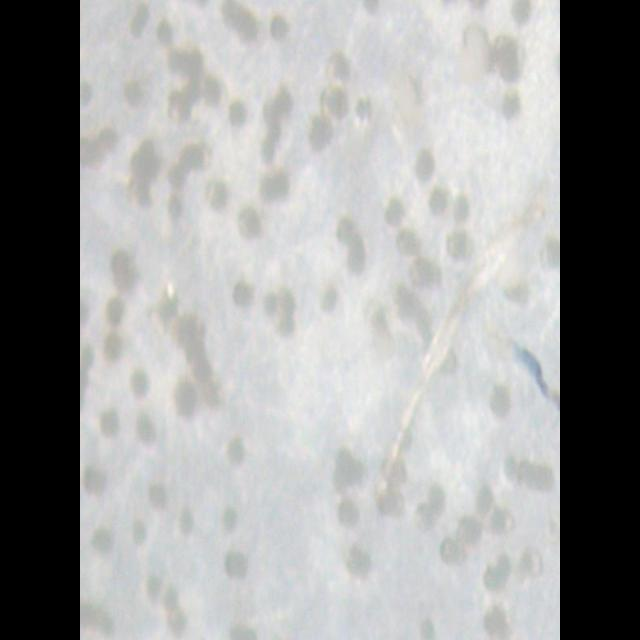Fibre: (372, 196, 560, 526)
